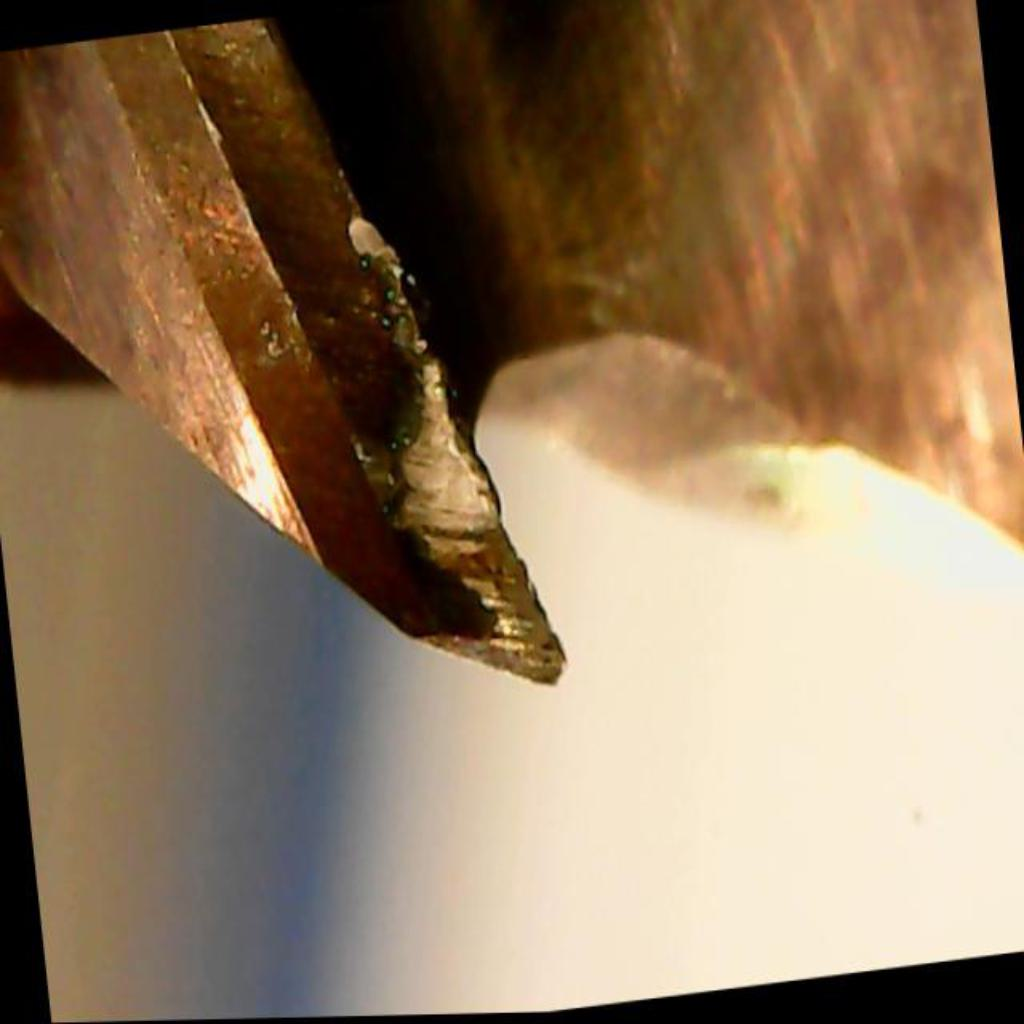Tool-wear-class-2: (277, 323, 582, 729)
